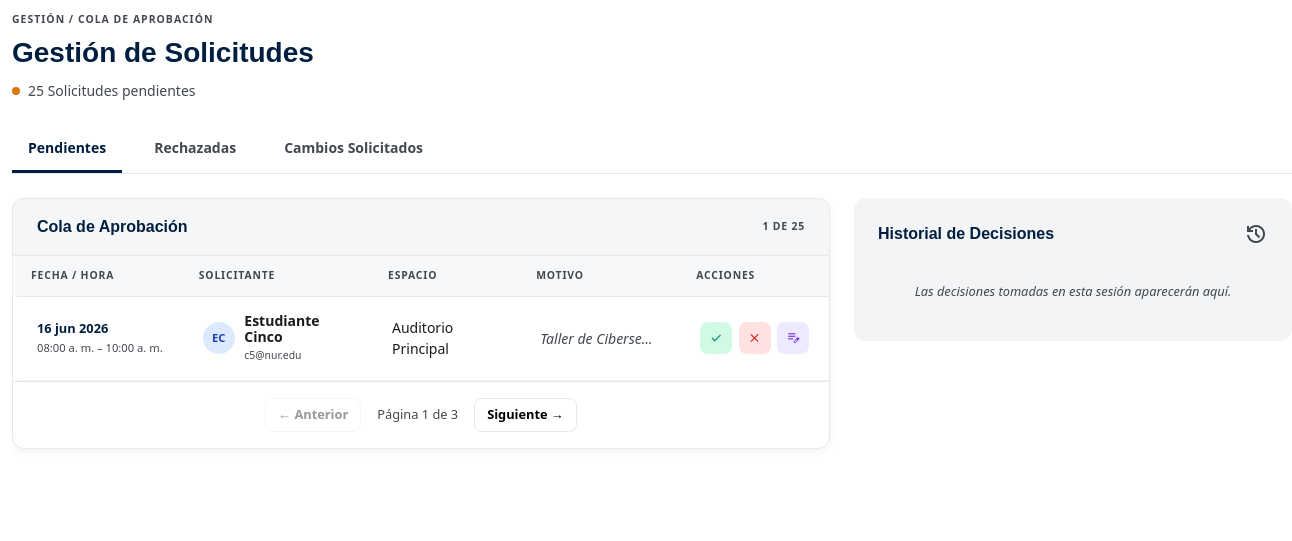
AdminRequestsView Component › debería permitir aprobar una solicitud directamente desde el botón de la fila
Expected: the text "Auditorio Principal" is shown, [372, 296, 520, 380]
Click the button titled "Aprobar".
click(716, 338)  # box [700, 322, 732, 354]
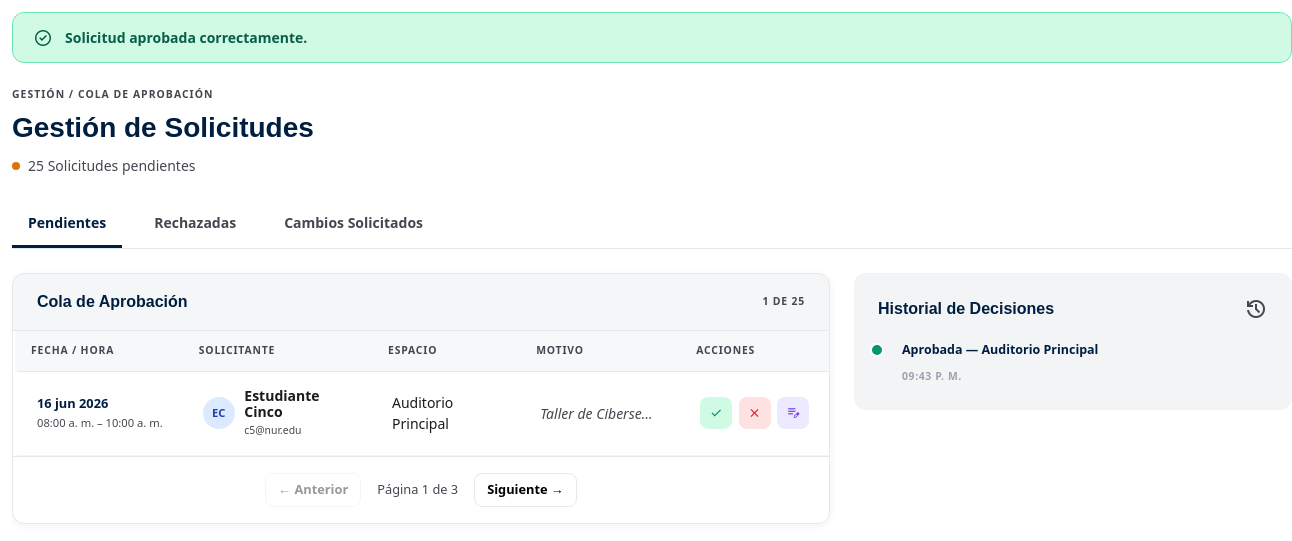
Expected: the text "Solicitud aprobada correctamente." is shown, [12, 12, 1291, 63]
Expected: the text "Aprobada — Auditorio Principal" is shown, [902, 341, 1098, 358]
